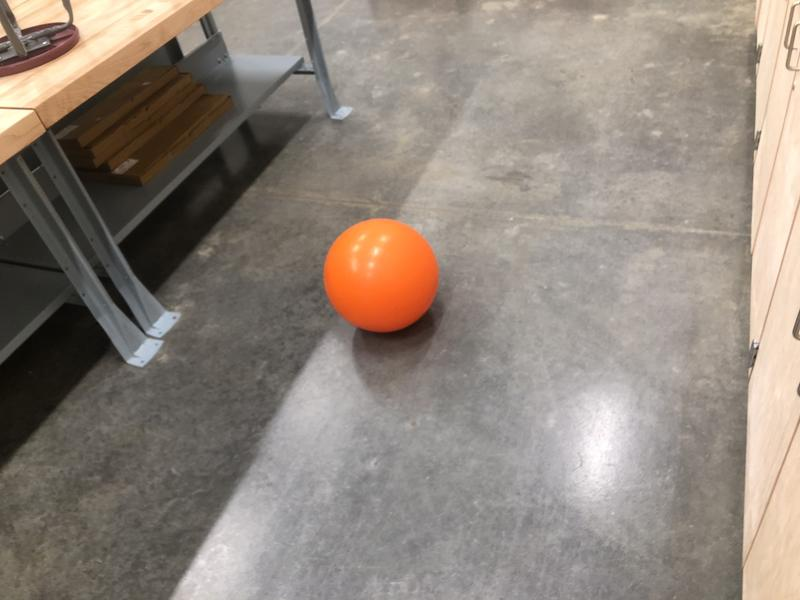ball: (325, 219, 438, 331)
